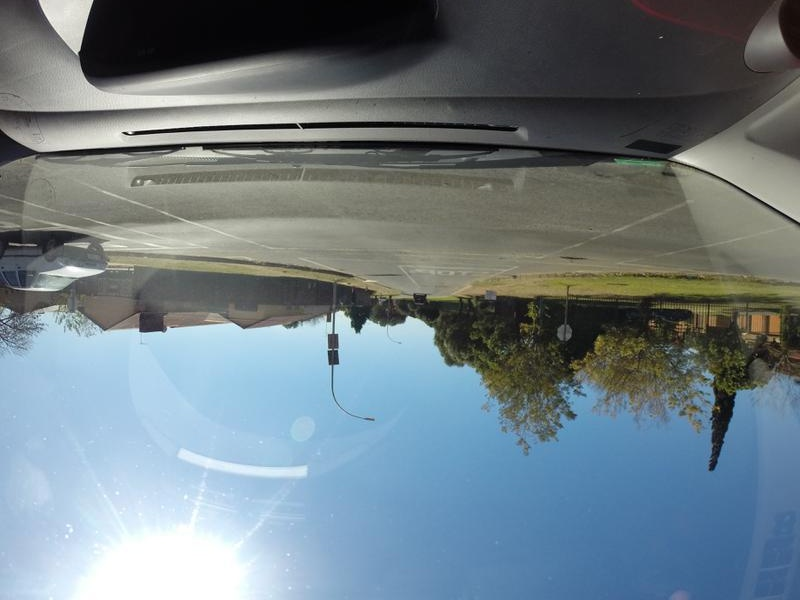pothole: (586, 164, 643, 186), (663, 166, 690, 177), (557, 255, 590, 260)
